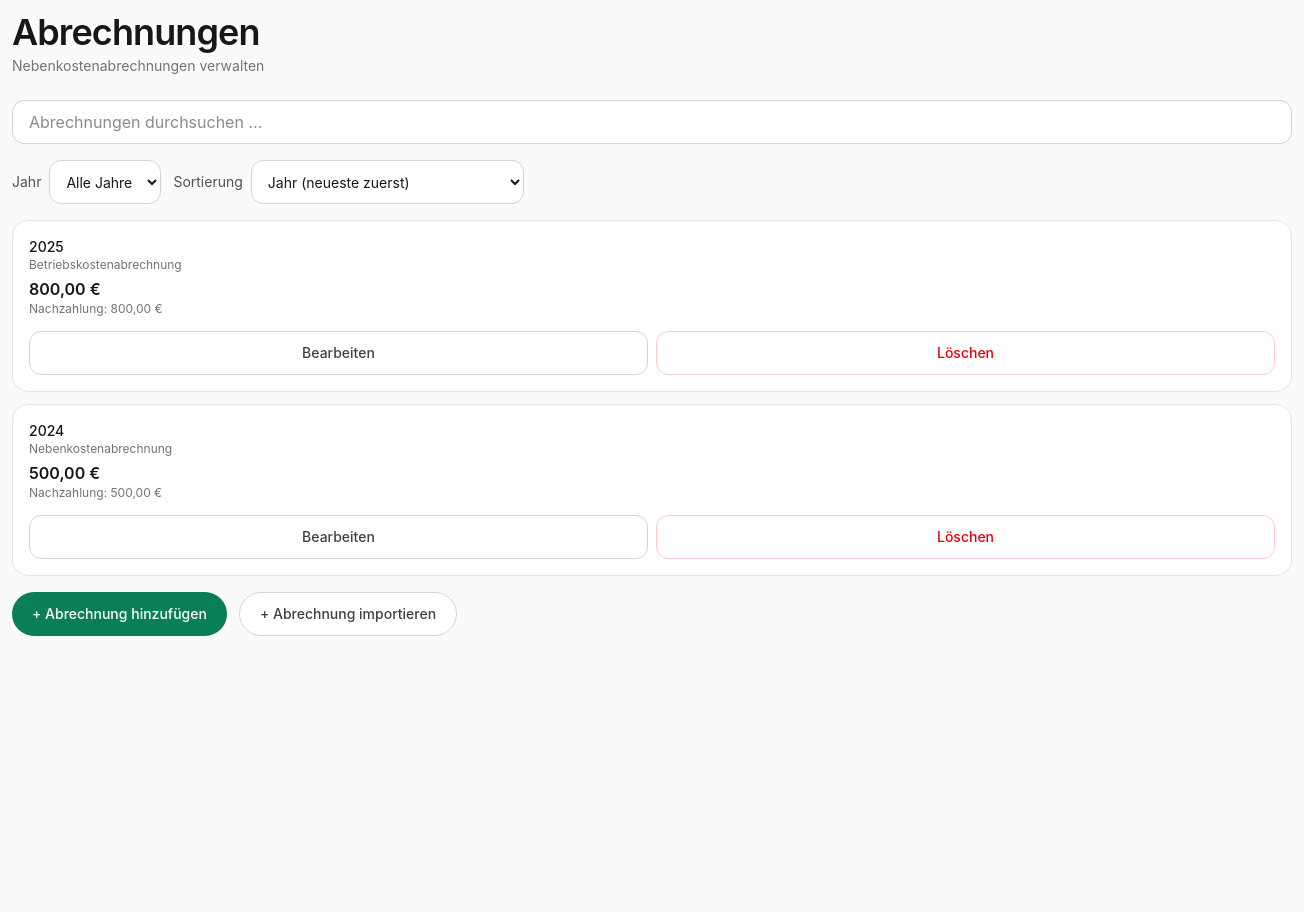
BillsPage › filters bills by search text (year, type label, and amount)
Type "Betriebskosten" into the search field labelled "Abrechnungen durchsuchen".
click(652, 122); type("Betriebskosten")  # box 12,100 -> 1292,144
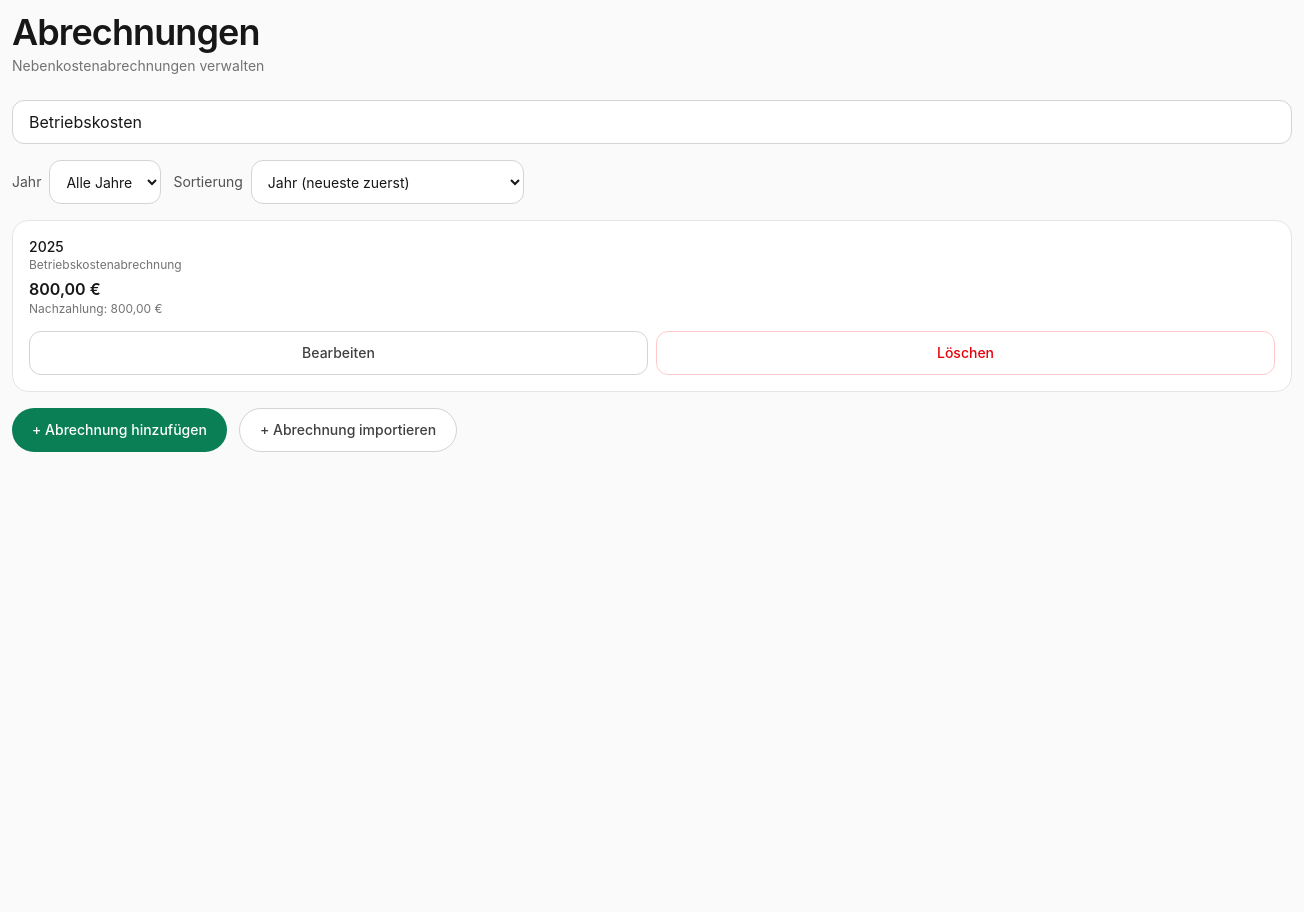
expect the text "Betriebskostenabrechnung" is shown: met, box 29,257 -> 182,272
expect the number of list items is 1: met, box 12,220 -> 1292,392
Replace the text in the search field named "Abrechnungen durchsuchen" with "500" at (652, 122), box 12,100 -> 1292,144
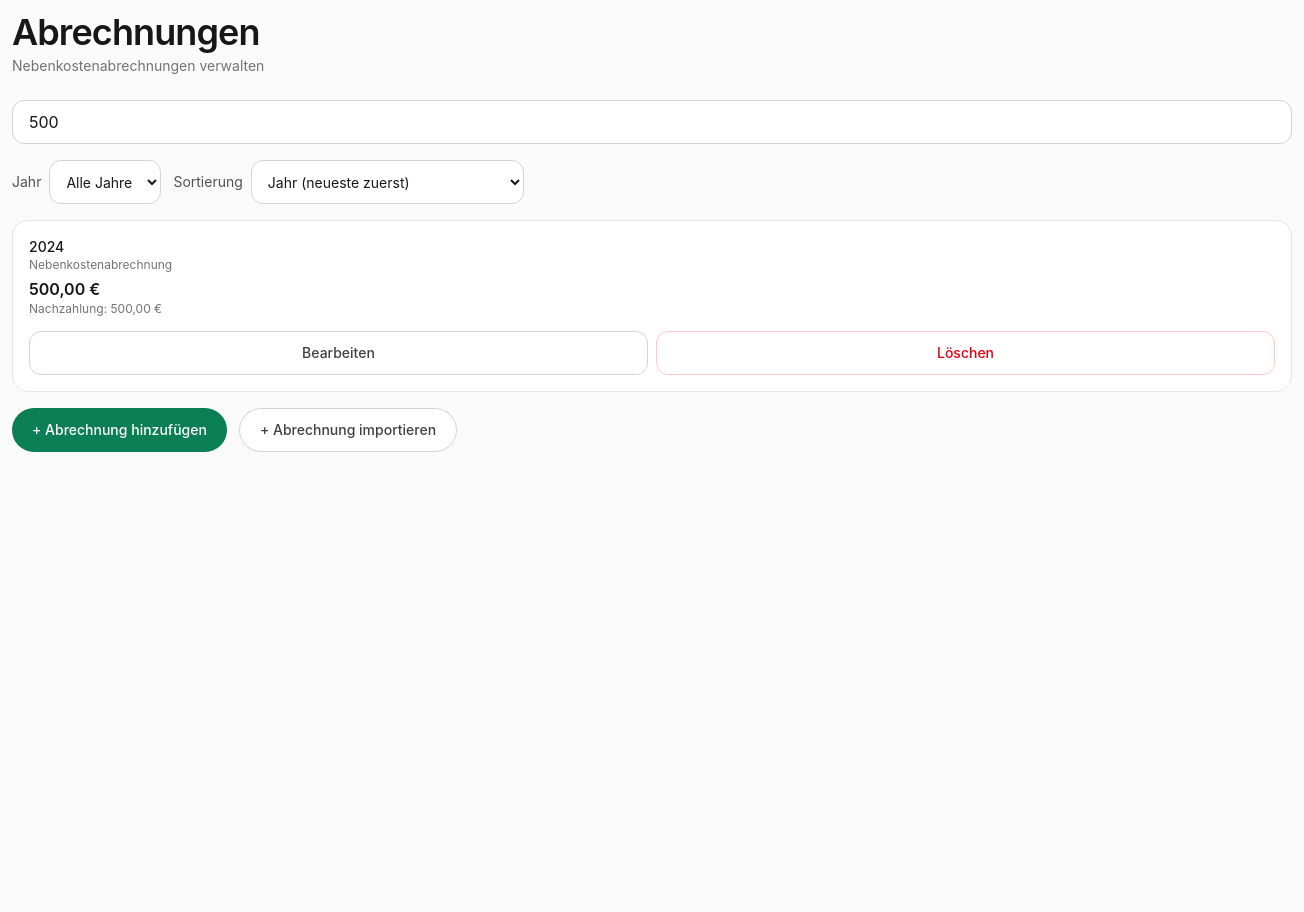
expect the number of list items is 1: met, box 12,220 -> 1292,392
expect the text "Nebenkostenabrechnung" is shown: met, box 29,257 -> 172,272
Replace the text in the search field named "Abrechnungen durchsuchen" with "does-not-exist" at (652, 122), box 12,100 -> 1292,144
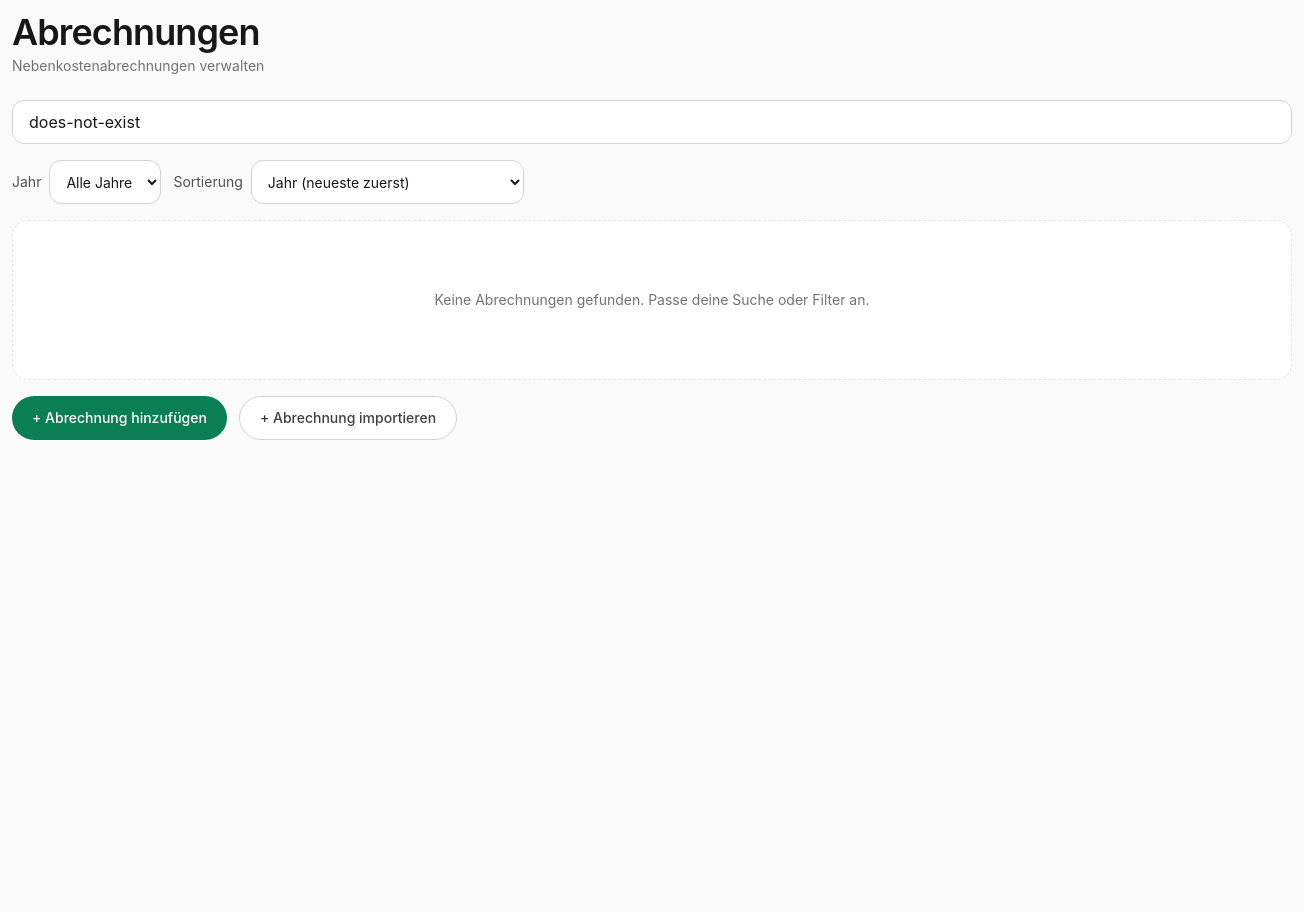
expect the text "Keine Abrechnungen gefunden. Passe deine Suche oder Filter an." is shown: met, box 434,290 -> 870,310
